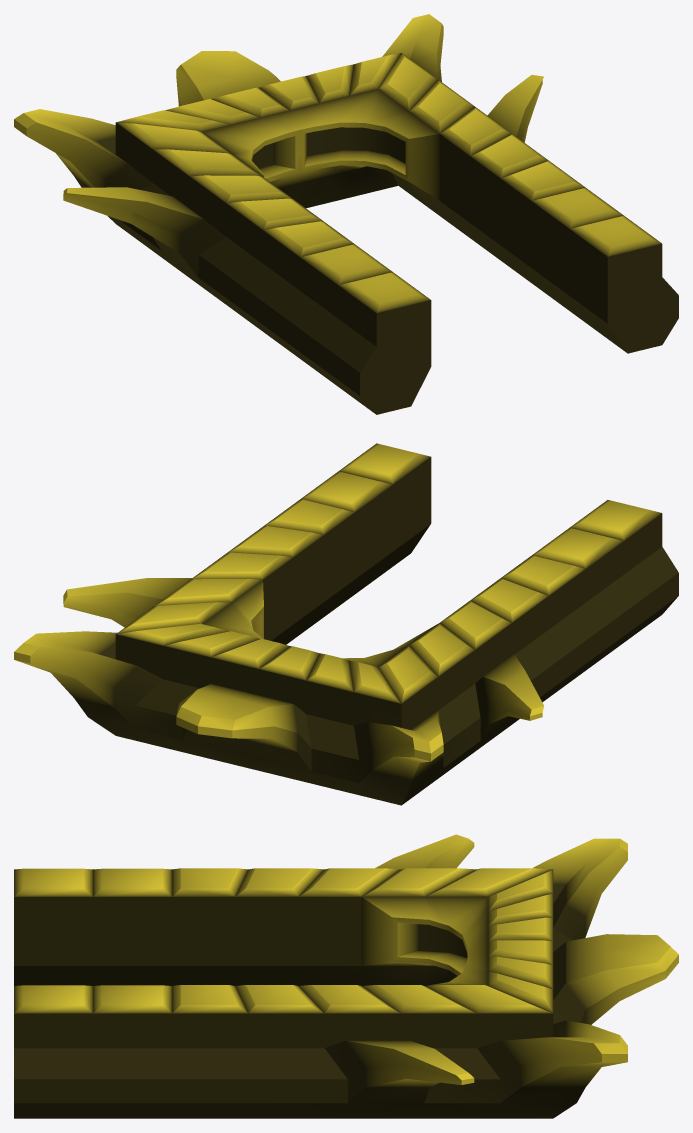
Rendered from Portal2.fbx.
3 renders of one model, top to bottom at view 1: azimuth 30°, elevation 25°; view 2: azimuth 150°, elevation 25°; view 3: azimuth 270°, elevation 25°, orthographic. The views are drawn at different scales.
Visible parts, largest first — view 1: Portal2; view 2: Portal2; view 3: Portal2.
Boxes of the visible parts, <box> form: Portal2: <box>14,14,678,414</box>; Portal2: <box>14,443,678,805</box>; Portal2: <box>14,834,678,1118</box>.
Size of the model in its own units: 362 by 76.64 by 421.
